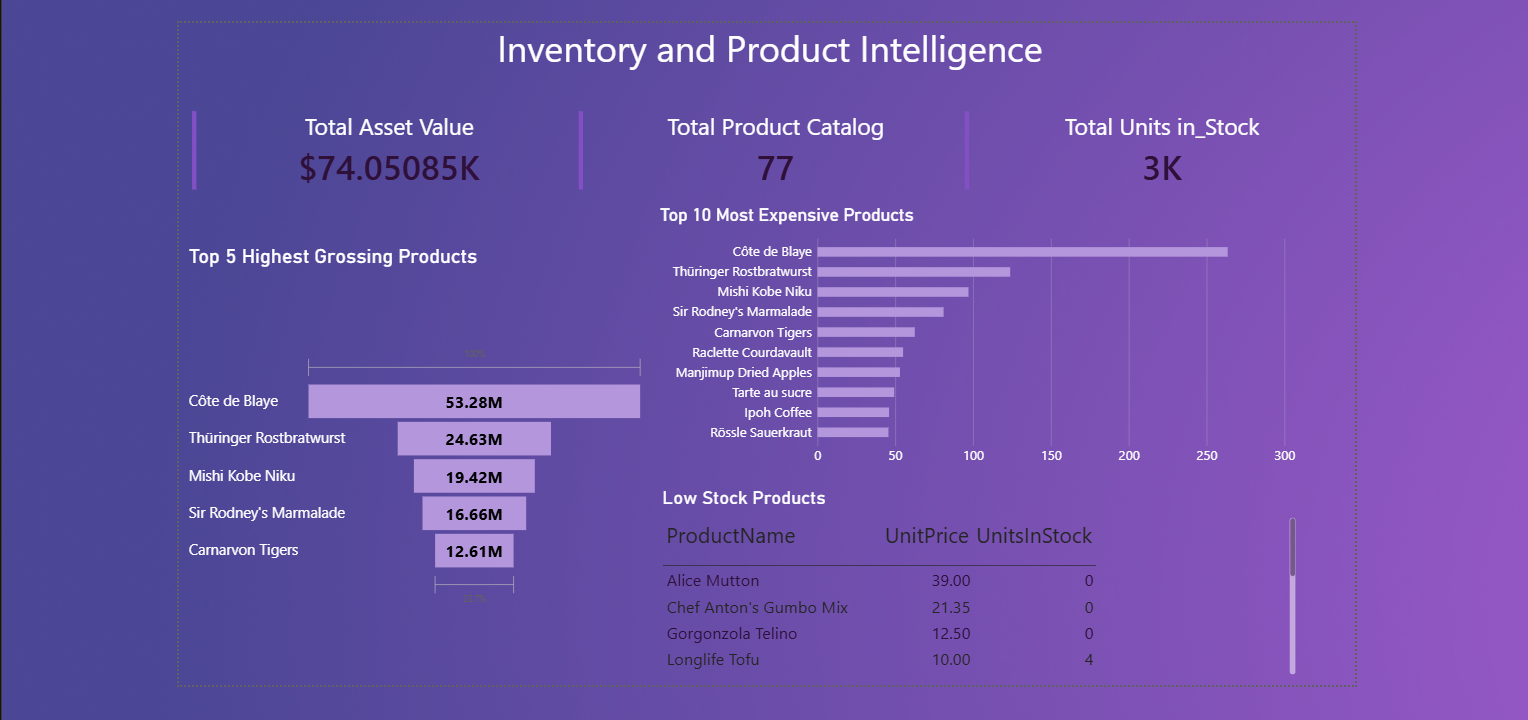

The page's visual inventory and layout, read from the dashboard file:
{"tool":"powerbi","page":{"name":"Inventory & Product Intelligence","canvas":[1920,1080],"ordinal":3},"visuals":[{"type":"textbox","box":[11.1,0,1908.9,102.2],"z":0},{"type":"cardVisual","fields":{"Data":["_Measures.Total Asset Value","_Measures.Total Product Catalog","_Measures.Total Units in_Stock"]},"box":[10.9,132.6,1908.7,150],"z":1000},{"type":"barChart","title":"Top 10 Most Expensive Products","fields":{"Category":["Products.ProductName"],"Y":["Sum(Products.UnitPrice)"]},"box":[769.6,282.6,1069.6,460.9],"z":2000},{"type":"funnel","title":"Top 5 Highest Grossing Products","fields":{"Category":["Products.ProductName"],"Y":["Sum(Order_Details.FinalSellingPrice)"]},"box":[0,347.8,773.9,732.6],"z":3000},{"type":"tableEx","title":"Low Stock Products","fields":{"Values":["Products.ProductName","Products.UnitPrice","Products.UnitsInStock"]},"box":[773.9,743.5,1065.2,337],"z":4000}]}

Visuals, with their boxes on the page's 1920x1080 design canvas (x1, y1, x2, y2). These are canvas units, not pixel positions in the 1528x720 screenshot, which may show the page scaled, cropped or inside an application window:
textbox: bbox=(11, 0, 1920, 102)
cardVisual - _Measures.Total Asset Value x _Measures.Total Product Catalog: bbox=(11, 133, 1920, 283)
"Top 10 Most Expensive Products" barChart: bbox=(770, 283, 1839, 744)
"Top 5 Highest Grossing Products" funnel: bbox=(0, 348, 774, 1080)
"Low Stock Products" tableEx: bbox=(774, 744, 1839, 1080)
